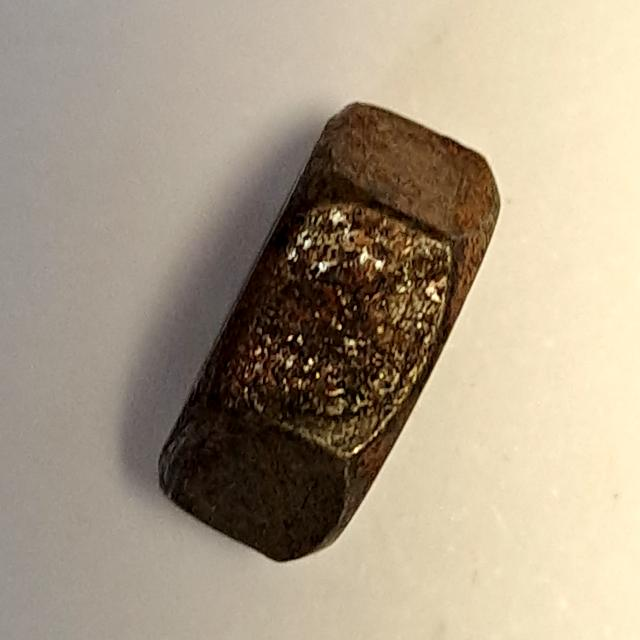Side_Rust: (145, 96, 508, 578)
